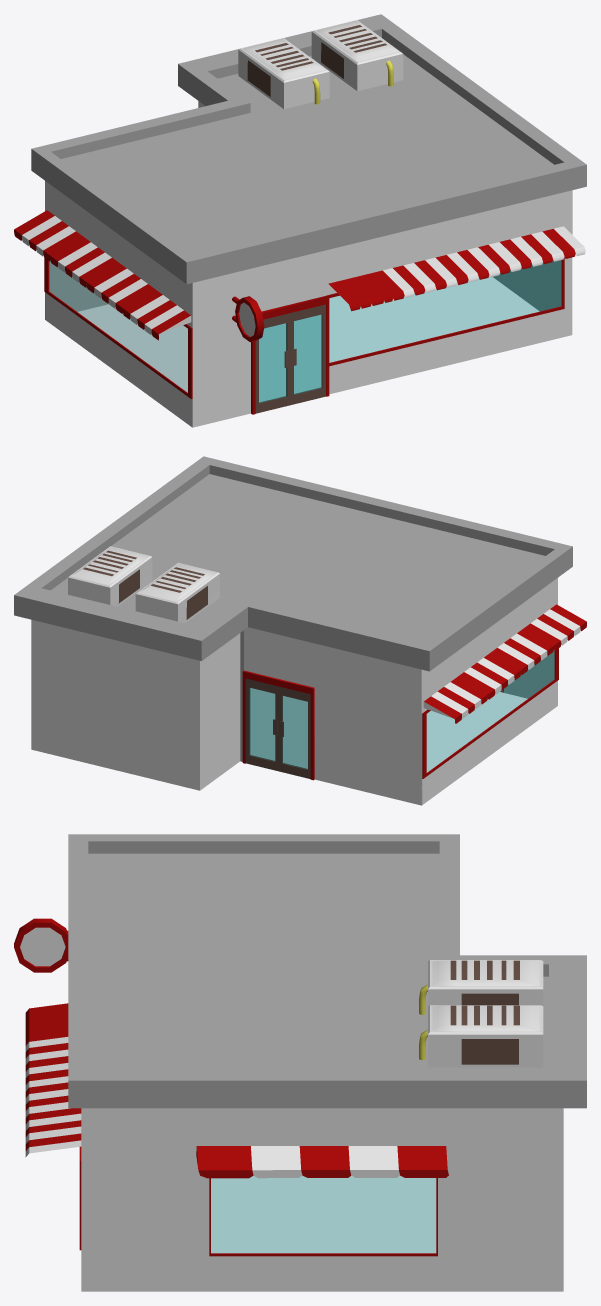
Rendered from Building_OneStory_Mod_01.fbx.
The picture shows the model from 3 angles, top to bottom: view 1: azimuth 30°, elevation 25°; view 2: azimuth 150°, elevation 25°; view 3: azimuth 270°, elevation 25°; orthographic projection. The views are drawn at different scales.
Parts seen in each view (by area): view 1: Building17, Shade18, Shade17, Aircon2, Aircon3, Door27, Door26, Sign1; view 2: Building17, Shade17, Aircon2, Aircon3, Door28, Door29; view 3: Building17, Shade19, Aircon2, Shade18, Aircon3, Sign1.
Boxes of the visible parts, x1=… form: Building17: x1=31, y1=14, x2=586, y2=427; Shade18: x1=328, y1=226, x2=585, y2=311; Shade17: x1=14, y1=210, x2=191, y2=340; Aircon2: x1=311, y1=20, x2=403, y2=91; Aircon3: x1=238, y1=38, x2=329, y2=108; Door27: x1=290, y1=304, x2=325, y2=404; Door26: x1=255, y1=313, x2=290, y2=413; Sign1: x1=232, y1=296, x2=264, y2=342; Building17: x1=14, y1=456, x2=572, y2=805; Shade17: x1=423, y1=604, x2=586, y2=723; Aircon2: x1=68, y1=546, x2=152, y2=606; Aircon3: x1=135, y1=562, x2=219, y2=623; Door28: x1=246, y1=678, x2=278, y2=771; Door29: x1=278, y1=686, x2=310, y2=778; Building17: x1=68, y1=834, x2=586, y2=1291; Shade19: x1=196, y1=1146, x2=448, y2=1178; Aircon2: x1=419, y1=1005, x2=543, y2=1067; Shade18: x1=25, y1=1003, x2=81, y2=1157; Aircon3: x1=419, y1=960, x2=543, y2=1014; Sign1: x1=14, y1=918, x2=68, y2=972.
Size of the model in its own units: 10.37 by 4.44 by 9.51.
